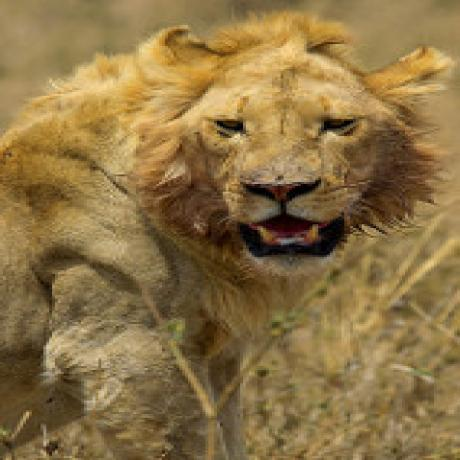Lion: (0, 11, 439, 460)
